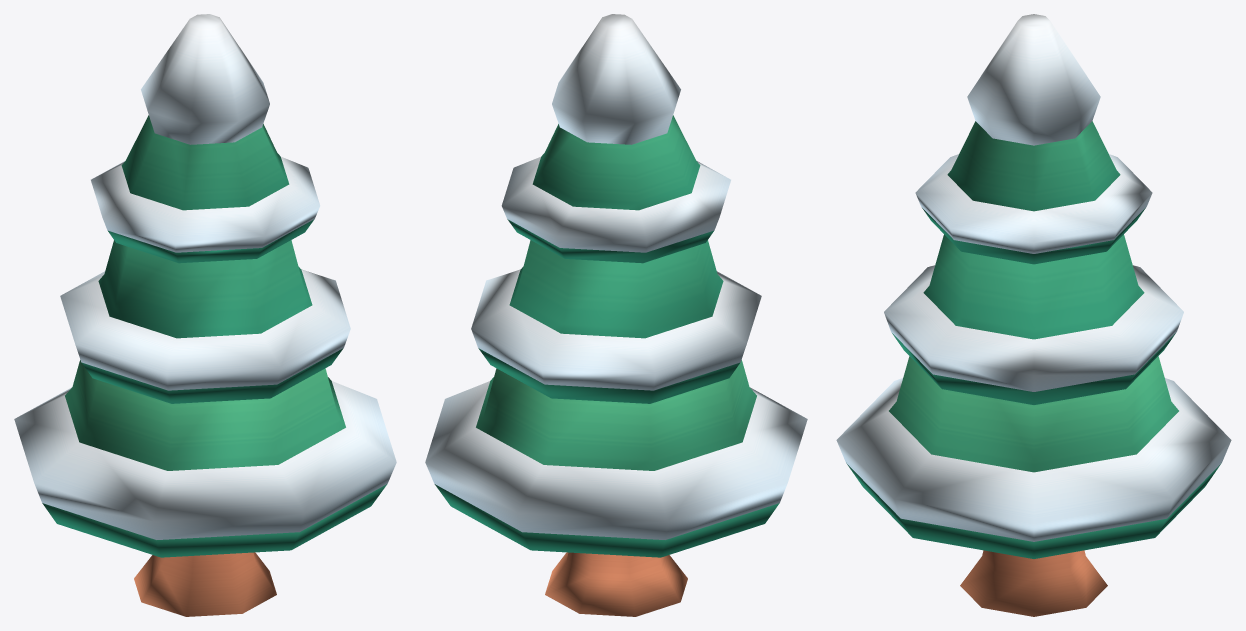
Rendered from tree-snow-b_lev3.glb.
3 views of the same model, side by side, from view 1: azimuth 30°, elevation 25°; view 2: azimuth 150°, elevation 25°; view 3: azimuth 270°, elevation 25° (orthographic).
Parts seen in each view (by area): view 1: tree-snow-b_lev3; view 2: tree-snow-b_lev3; view 3: tree-snow-b_lev3.
Part boxes in pixels (left/top/right/bottom): tree-snow-b_lev3: left=14, top=14, right=396, bottom=616; tree-snow-b_lev3: left=425, top=14, right=807, bottom=616; tree-snow-b_lev3: left=836, top=14, right=1231, bottom=616.
Size of the model in its own units: 5 by 7.88 by 5.
1 material, 1 textured.
